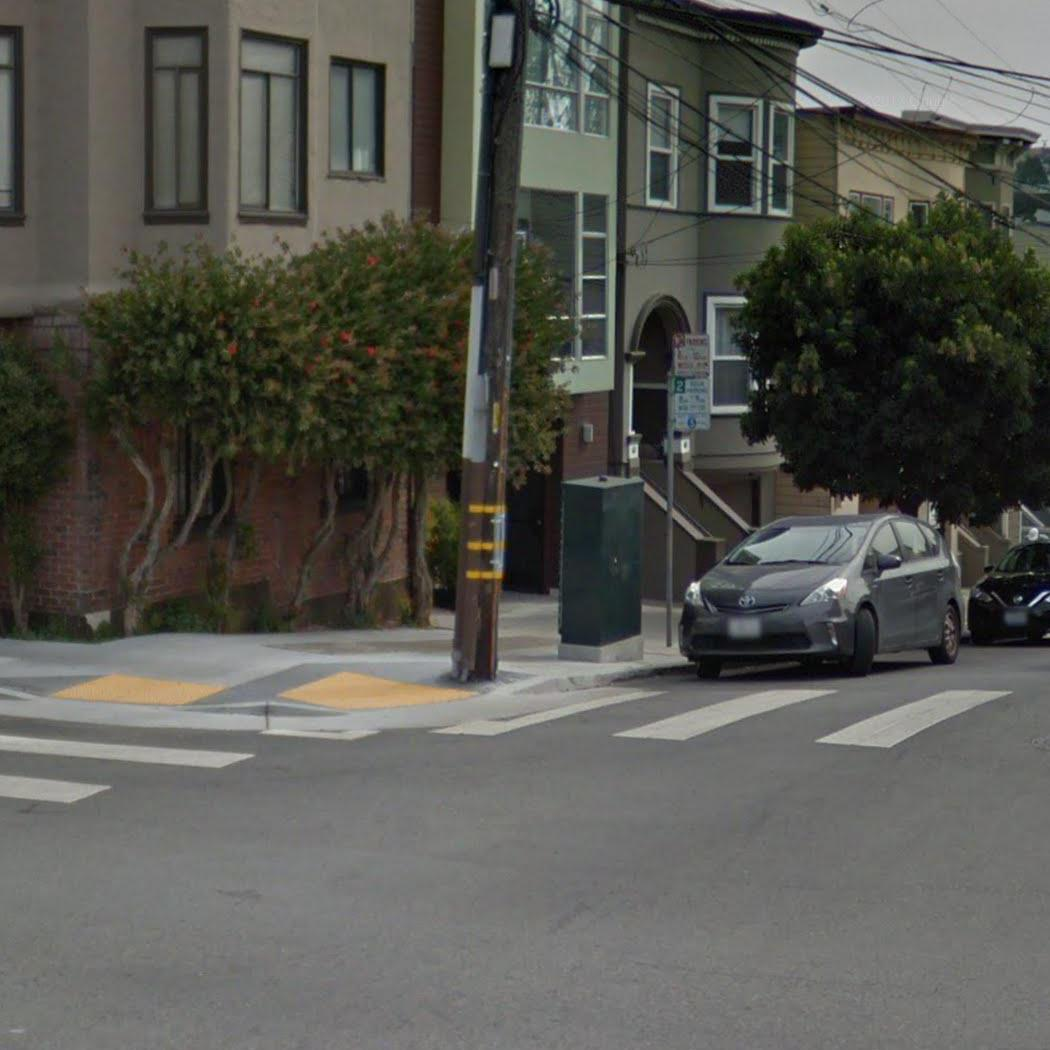2 Hour Parking: (667, 374, 714, 434)
No Parking: (669, 331, 715, 379)
